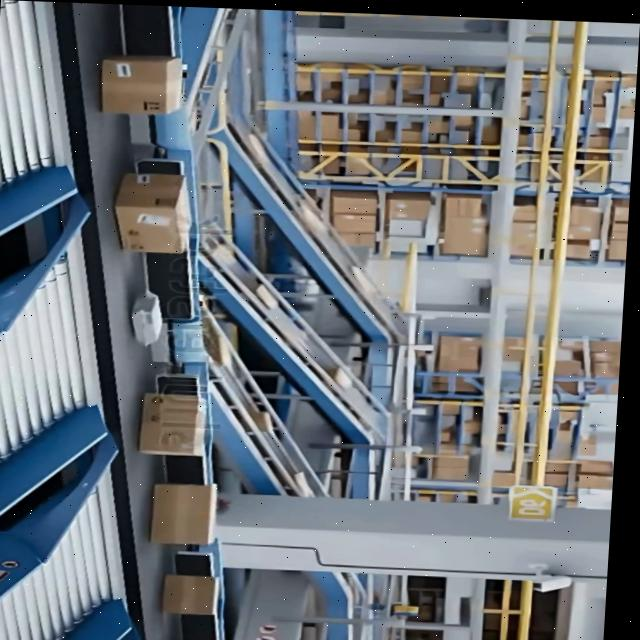product 1: (110, 172, 195, 255), (137, 392, 210, 458), (149, 481, 218, 547)
product 2: (128, 291, 165, 348)
